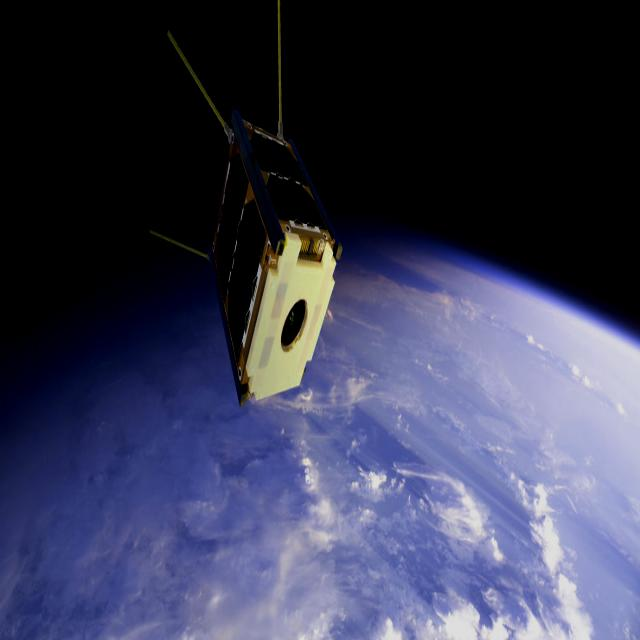satellite: (154, 9, 346, 408)
